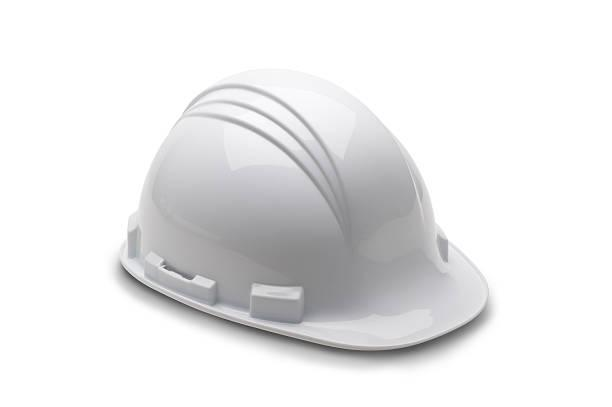helmet: (90, 28, 525, 389)
